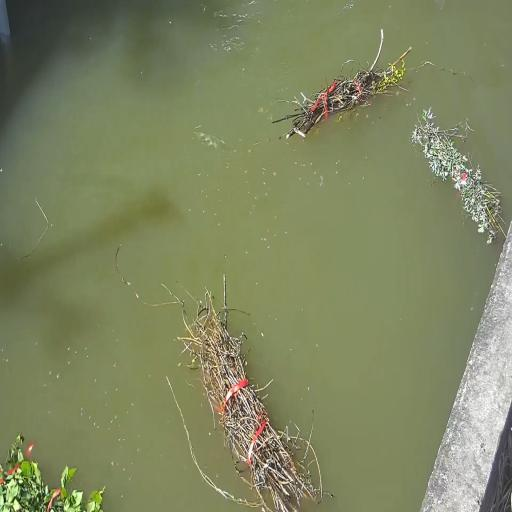twig: (179, 292, 318, 512), (272, 29, 411, 138), (411, 108, 505, 243), (0, 434, 104, 512)
